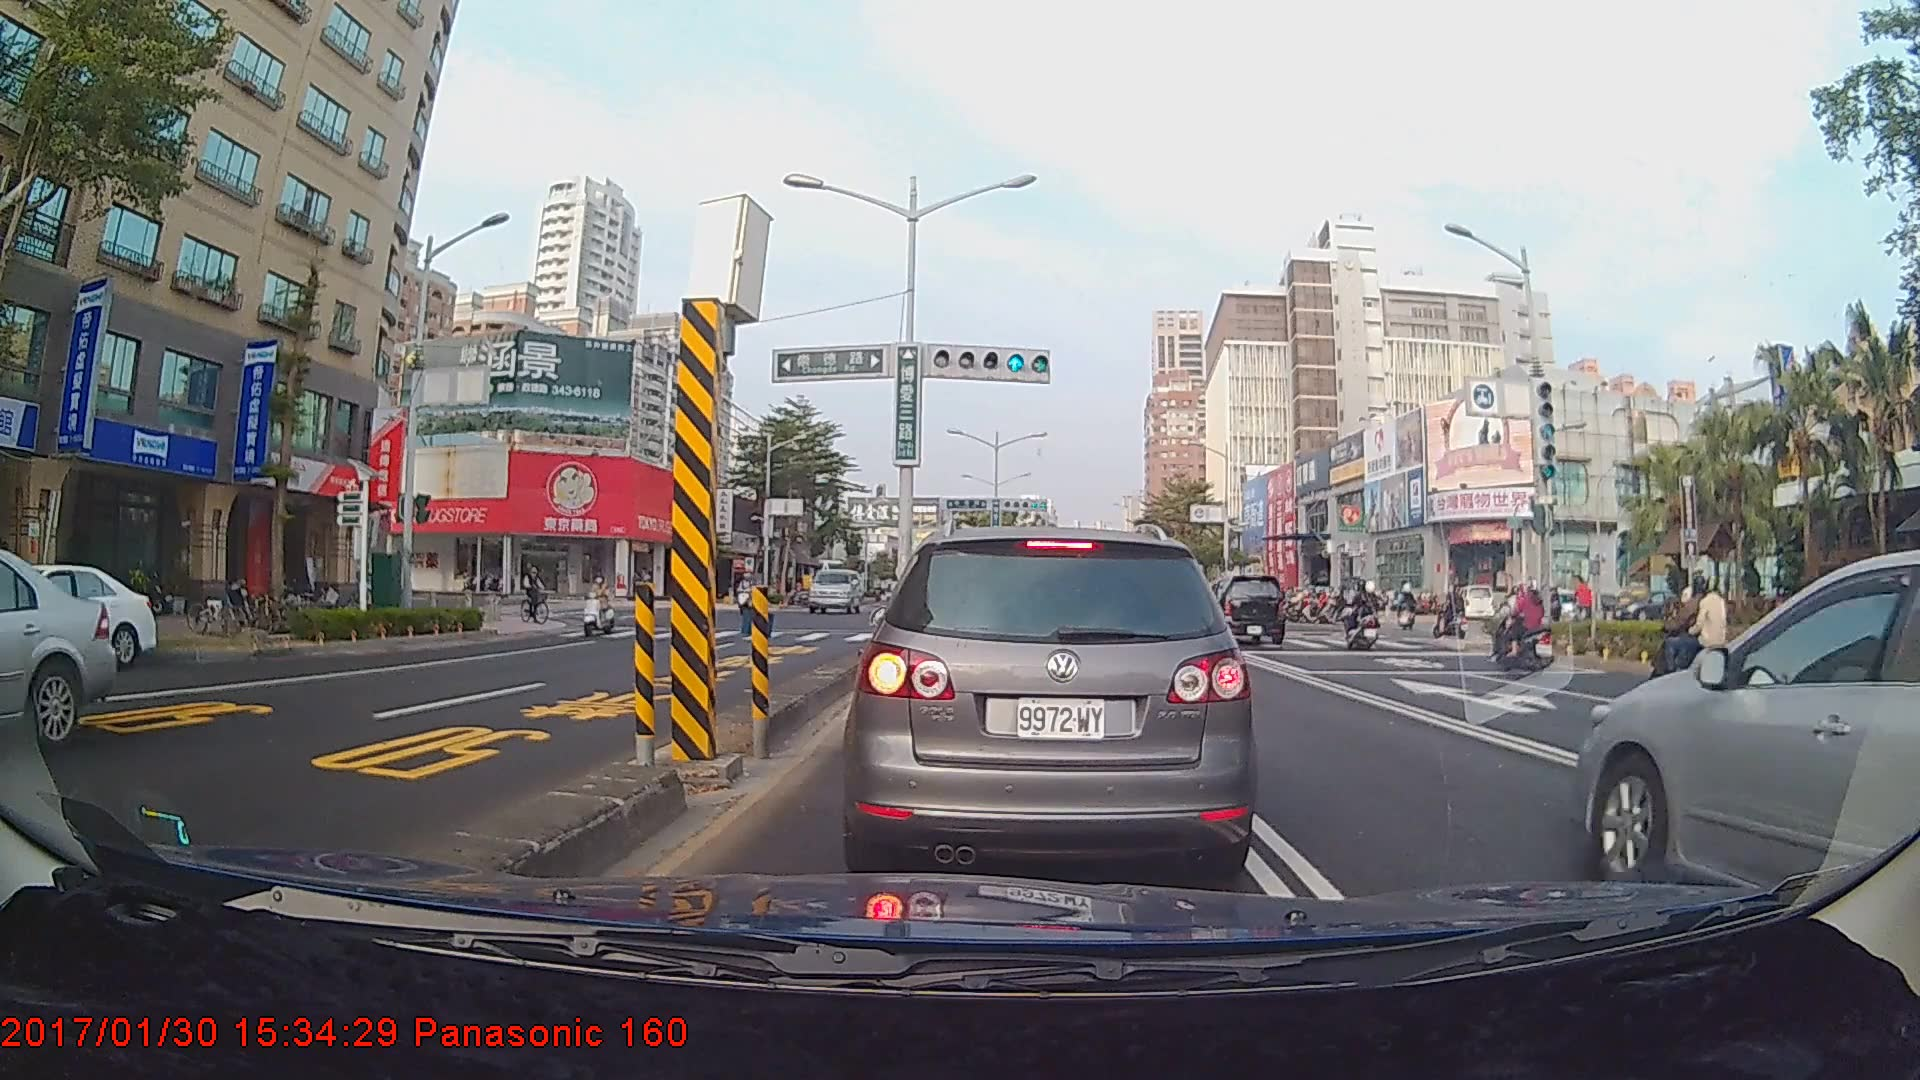rider: (1666, 567, 1733, 711), (1496, 575, 1569, 678), (1337, 582, 1392, 649), (518, 559, 561, 629), (580, 573, 625, 636), (1436, 582, 1473, 646)
vehicle: (856, 523, 1247, 879), (1568, 540, 1920, 879), (0, 545, 118, 750), (0, 561, 157, 671), (1196, 571, 1284, 645), (808, 568, 862, 614)
